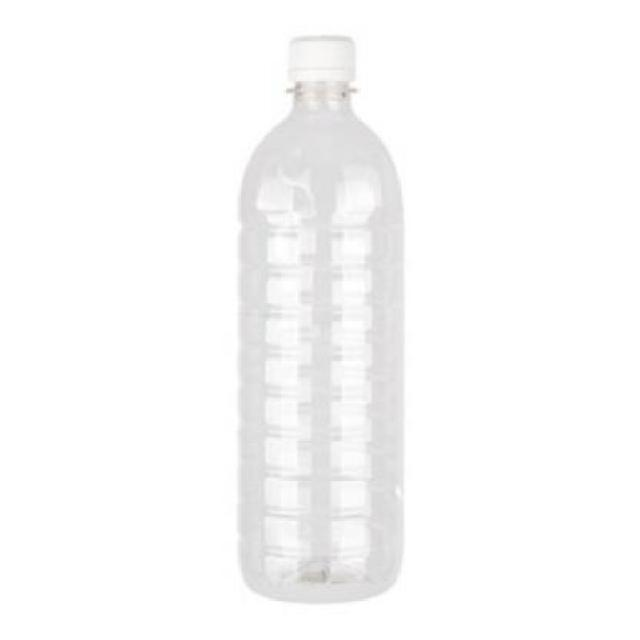plastic: (234, 31, 410, 608)
